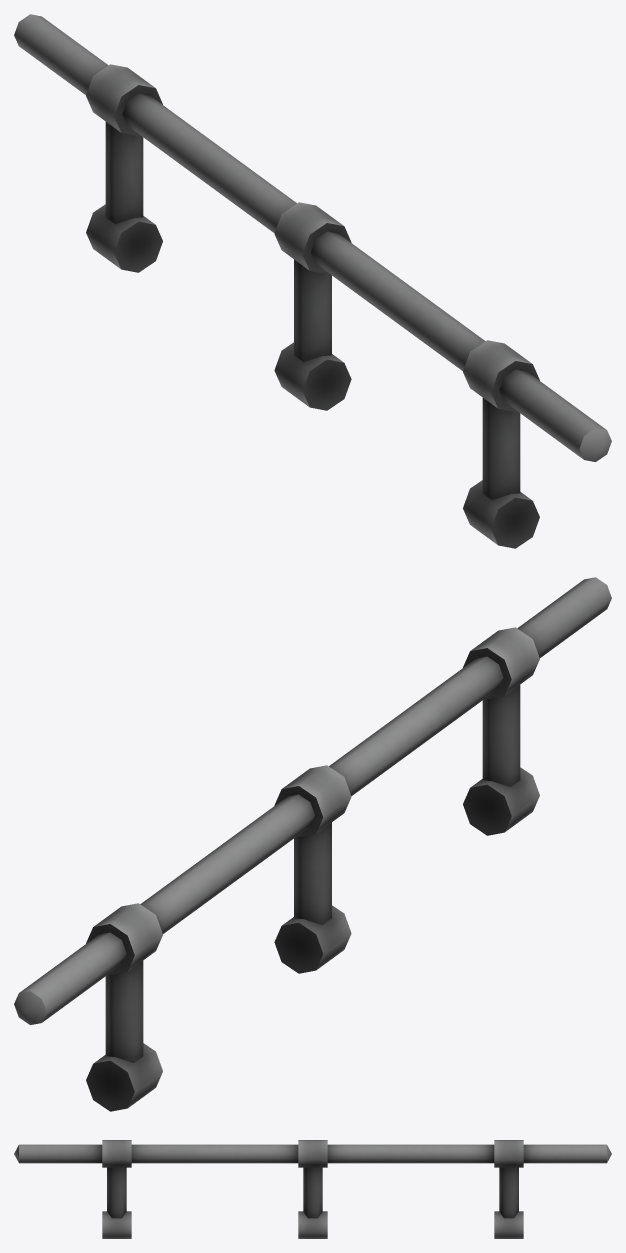
File: octans_basic_high_gain_antenna_srf_1_support.obj
3 views of the same model, one above another, from view 1: azimuth 30°, elevation 25°; view 2: azimuth 150°, elevation 25°; view 3: azimuth 270°, elevation 25° (orthographic). The views are drawn at different scales.
Parts seen in each view (by area): view 1: mesh; view 2: mesh; view 3: mesh.
Boxes of the visible parts, bbox=[...] form: mesh: bbox=[14, 14, 611, 548]; mesh: bbox=[14, 577, 611, 1111]; mesh: bbox=[14, 1140, 611, 1238].
Size of the model in its own units: 0.0375 by 0.1375 by 0.7625.
1 material, 1 textured.
